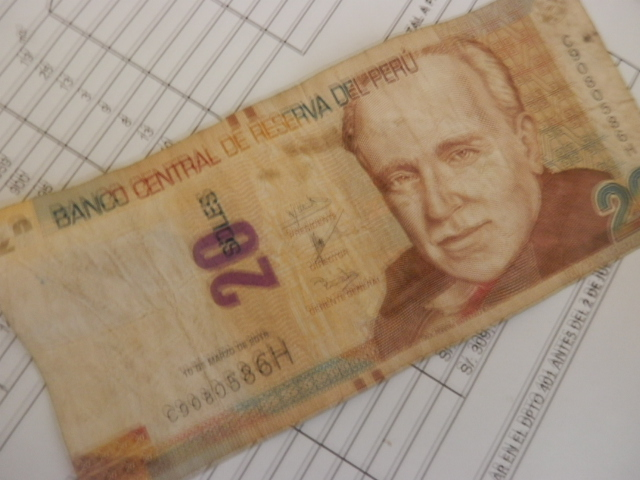B20: (21, 90, 630, 422)
